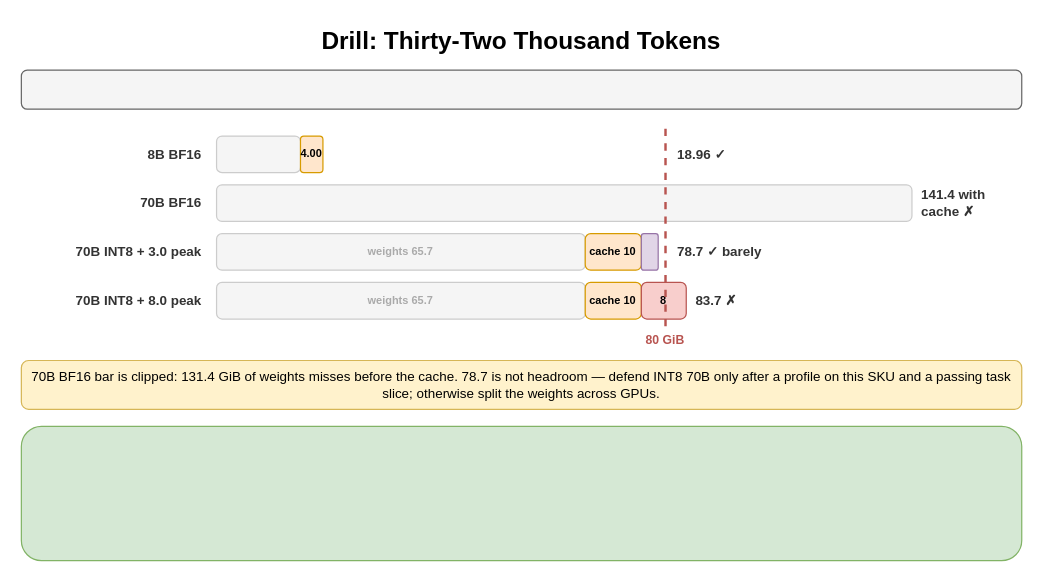
Image size: 1043x582. Some labels were removed from this diagram. Here are the shapes that lost their labels. From the top down, the box of each, then its label:
(20, 69, 1022, 109): Which launches fit on one 80 GiB H100 SXM5 at a 32,768-token context?
(215, 135, 300, 173): weights 14.96
(215, 184, 912, 221): weights 131.4 (clipped)
(20, 425, 1022, 561): Answer: 14.96 4.00 18.96 141.4 False 10.0 75.7 78.7 True 83.7 False
